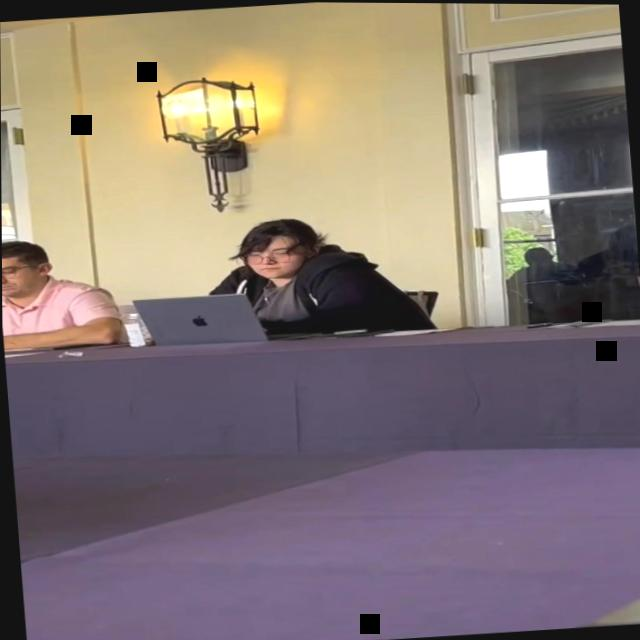NO-Mask: (240, 228, 316, 284), (1, 251, 38, 297)
